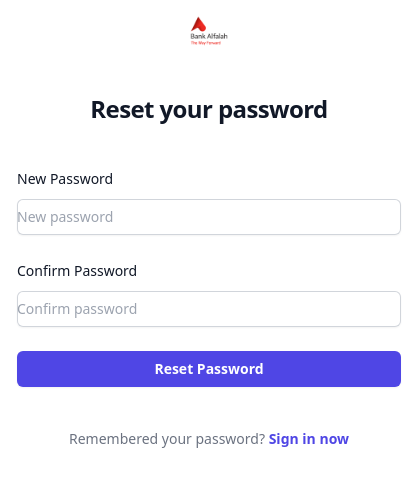
Reset Password Flow › should show an error for mismatched passwords
In the password field named "newPassword": x=209, y=217 [17,199,401,235], type "newpassword123"
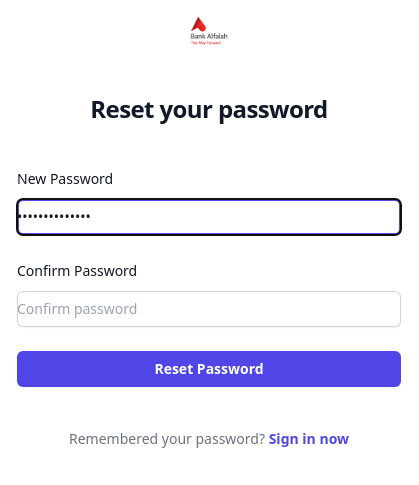
In the password field named "confirmPassword": x=209, y=309 [17,291,401,327], type "differentpassword"
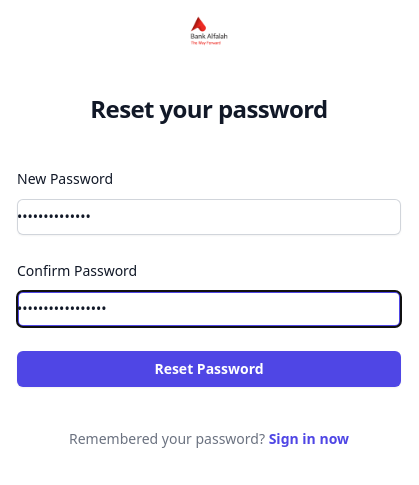
Click the submit button: x=209, y=369 [17,351,401,387]
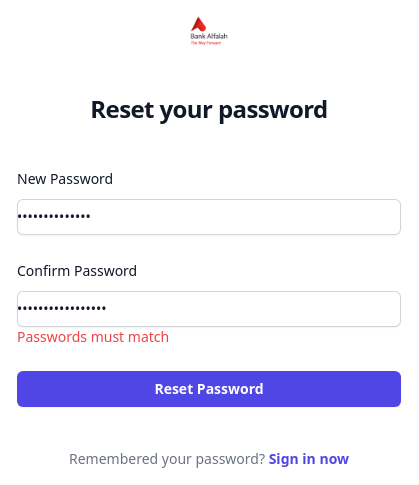
Result: the text "Passwords must match" is shown at [17,327,169,346]
